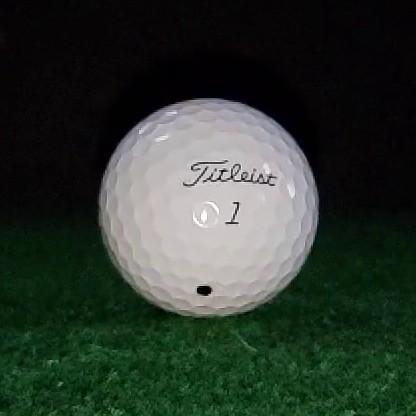golfball: (98, 99, 319, 316)
